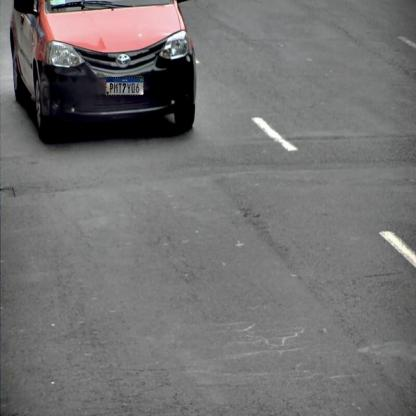PlacaM: (106, 77, 144, 96)
